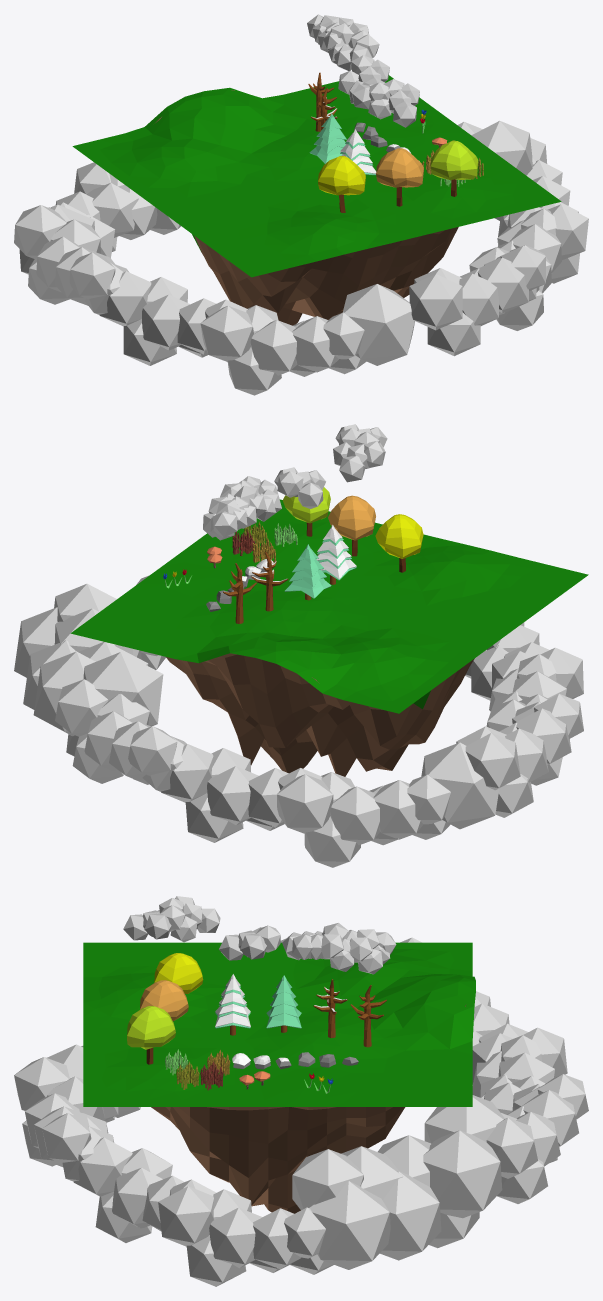
3 views of the same model, one above another, from view 1: azimuth 30°, elevation 25°; view 2: azimuth 150°, elevation 25°; view 3: azimuth 270°, elevation 25° (orthographic). The views are drawn at different scales.
Visible parts, largest first — view 1: Landscape, Icosphere.039, cloud 3, cloud 1, normal tree green, normal yellow ish, normal tree dry _normal tree yellow_0, cloud 2, cone tree without snow, cone tree with snow; view 2: Landscape, Icosphere.039, cloud 3, cloud 1, normal yellow ish, normal tree dry _normal tree yellow_0, cloud 2, cone tree without snow, cone tree with snow, normal tree green, dead tree with snow, dead tree withotu snow; view 3: Landscape, Icosphere.039, cloud 3, cloud 1, normal tree green, cloud 2, normal yellow ish, cone tree with snow, normal tree dry _normal tree yellow_0, cone tree without snow, dead tree withotu snow, dead tree with snow.
Boxes of the visible parts, x1,y1,x2,y2 form: Landscape: (72,75,561,325); Icosphere.039: (14,120,588,395); cloud 3: (307,14,379,70); cloud 1: (349,79,419,127); normal tree green: (430,140,478,196); normal yellow ish: (318,156,365,212); normal tree dry _normal tree yellow_0: (376,148,423,187); cloud 2: (338,55,389,94); cone tree without snow: (309,113,346,163); cone tree with snow: (340,129,376,175); Landscape: (70,499,588,776); Icosphere.039: (14,575,583,867); cloud 3: (203,476,281,540); cloud 1: (333,424,387,482); normal yellow ish: (375,514,423,572); normal tree dry _normal tree yellow_0: (328,495,375,540); cloud 2: (274,467,325,508); cone tree without snow: (284,544,331,600); cone tree with snow: (316,524,356,584); normal tree green: (282,487,330,536); dead tree with snow: (251,552,288,611); dead tree withotu snow: (223,563,256,623); Landscape: (83,942,475,1213); Icosphere.039: (14,937,588,1286); cloud 3: (282,923,396,974); cloud 1: (123,896,220,942); normal tree green: (127,1006,175,1064); cloud 2: (219,925,280,960); normal yellow ish: (154,953,203,993); cone tree with snow: (215,974,250,1035); normal tree dry _normal tree yellow_0: (140,980,188,1021); cone tree without snow: (266,975,301,1032); dead tree withotu snow: (350,985,386,1047); dead tree with snow: (313,979,347,1038).
Bounding box in the file's own units: 41.71 × 22.82 × 38.14.
